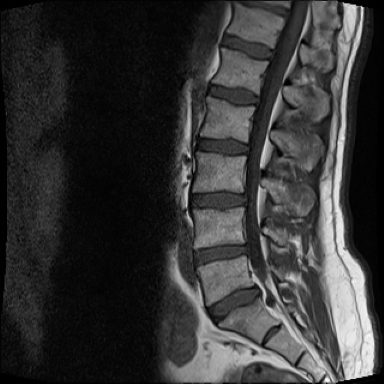Lumbar Disc Bulge (LDB): (203, 278, 267, 330), (189, 236, 254, 273)
Normal IVD: (202, 78, 264, 112), (218, 30, 278, 64), (184, 184, 248, 213), (190, 133, 251, 158)
Spinal Stenosis (SS): (248, 275, 265, 306), (240, 234, 254, 261)
